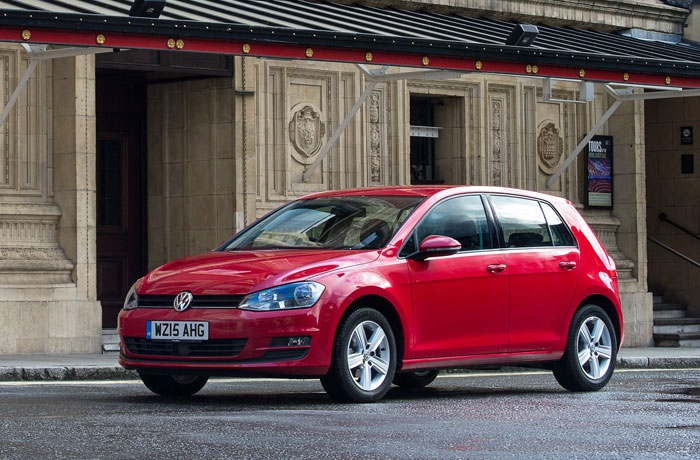car: (118, 183, 623, 401)
